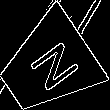N_SW: (17, 36, 78, 97)
